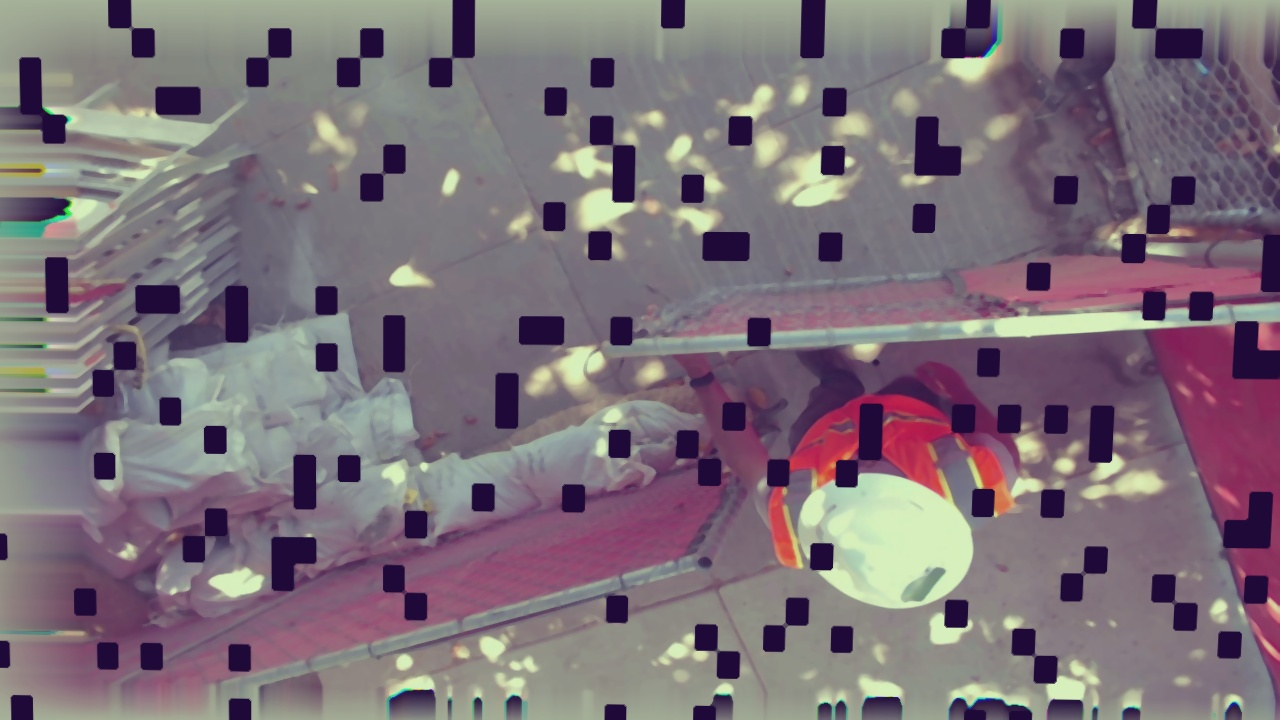green: (901, 566, 946, 603)
hardhat: (795, 473, 976, 610)
person: (665, 355, 1023, 612)
safetyvest: (766, 392, 1020, 571)
